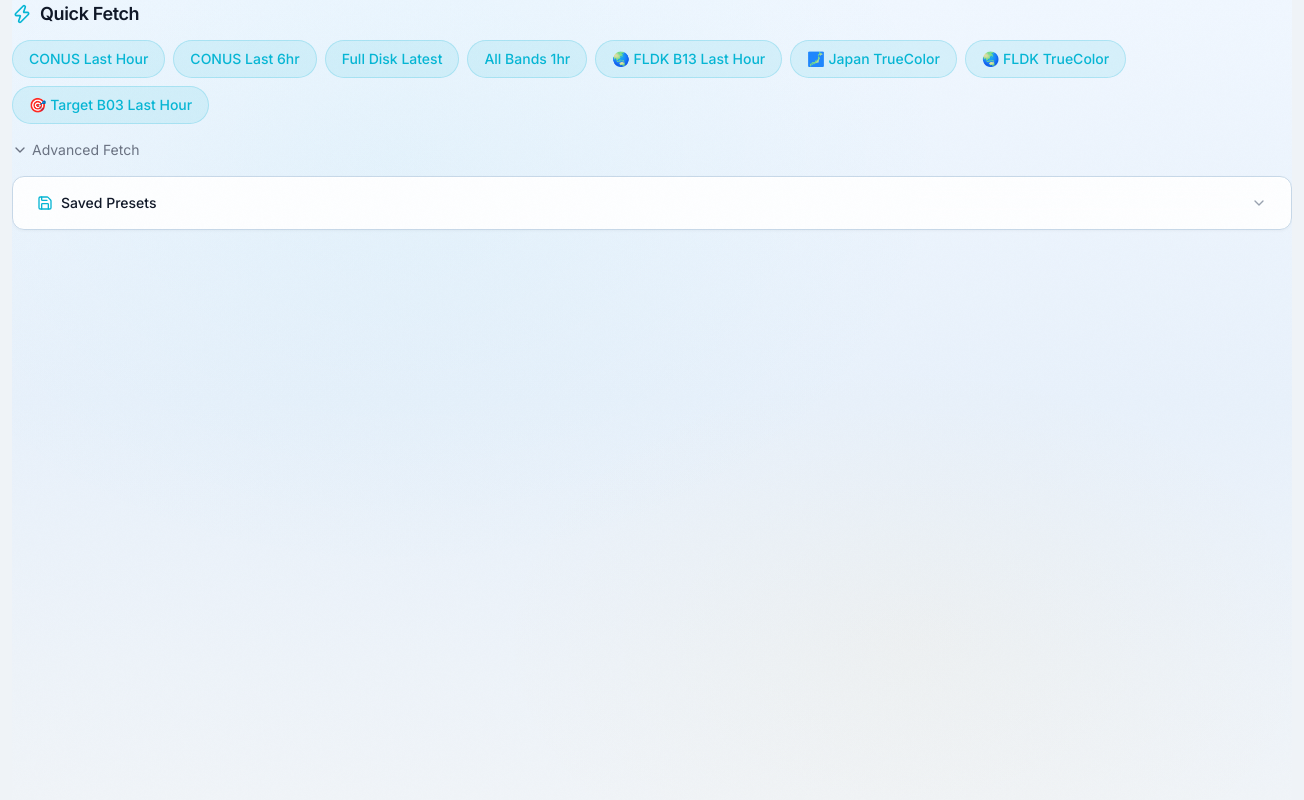
Test case: FetchFlowComplete › step 2: time range selection renders inputs
The width and height of the screenshot is (1304, 800).
What coordinates should you click on to do the following:
click the button with test id "advanced-fetch-toggle"
I would click on:
 (76, 150)
Its box is [12,140,140,160].
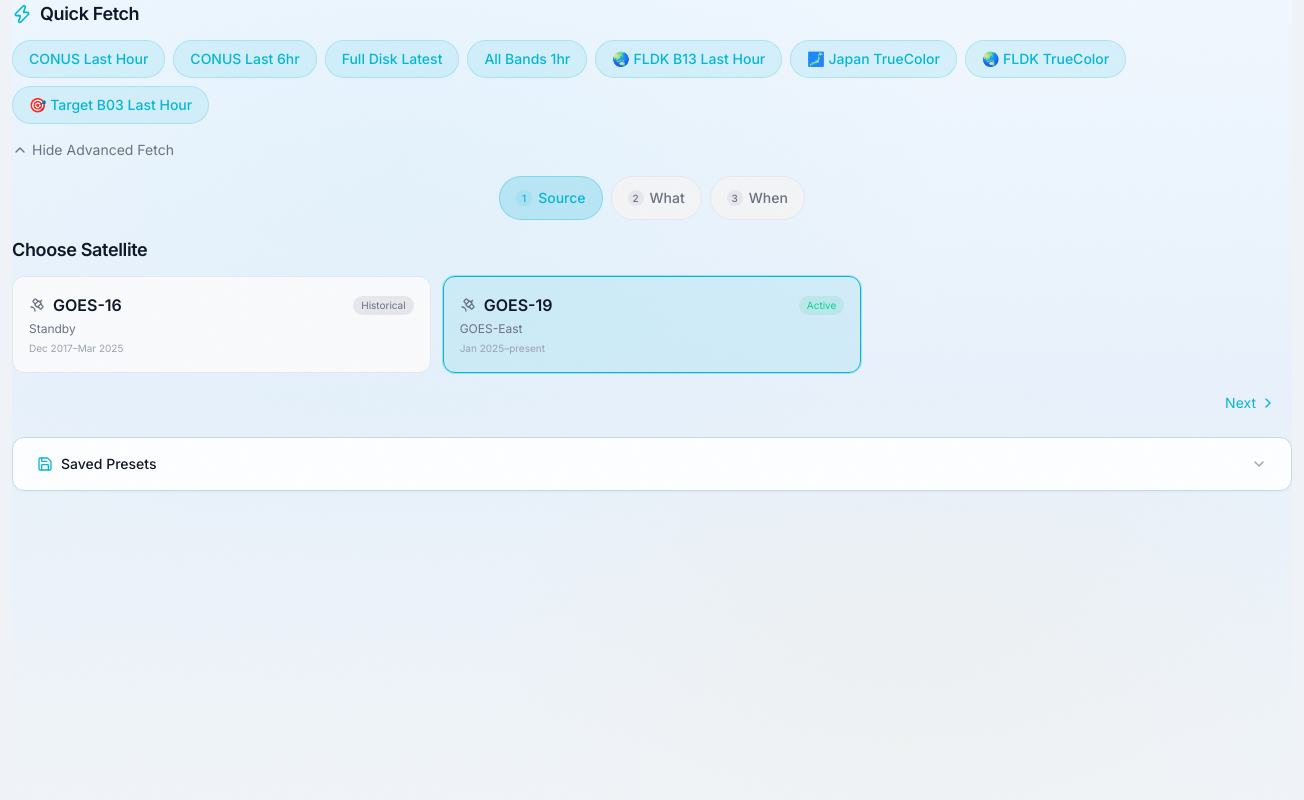
Result: the heading "Choose Satellite" is shown at [12,239,147,260]
What coordinates should you click on to do the following:
click the button "Next"
I would click on:
 (1251, 403)
Its box is [1209,385,1292,421].
(page scrolled)
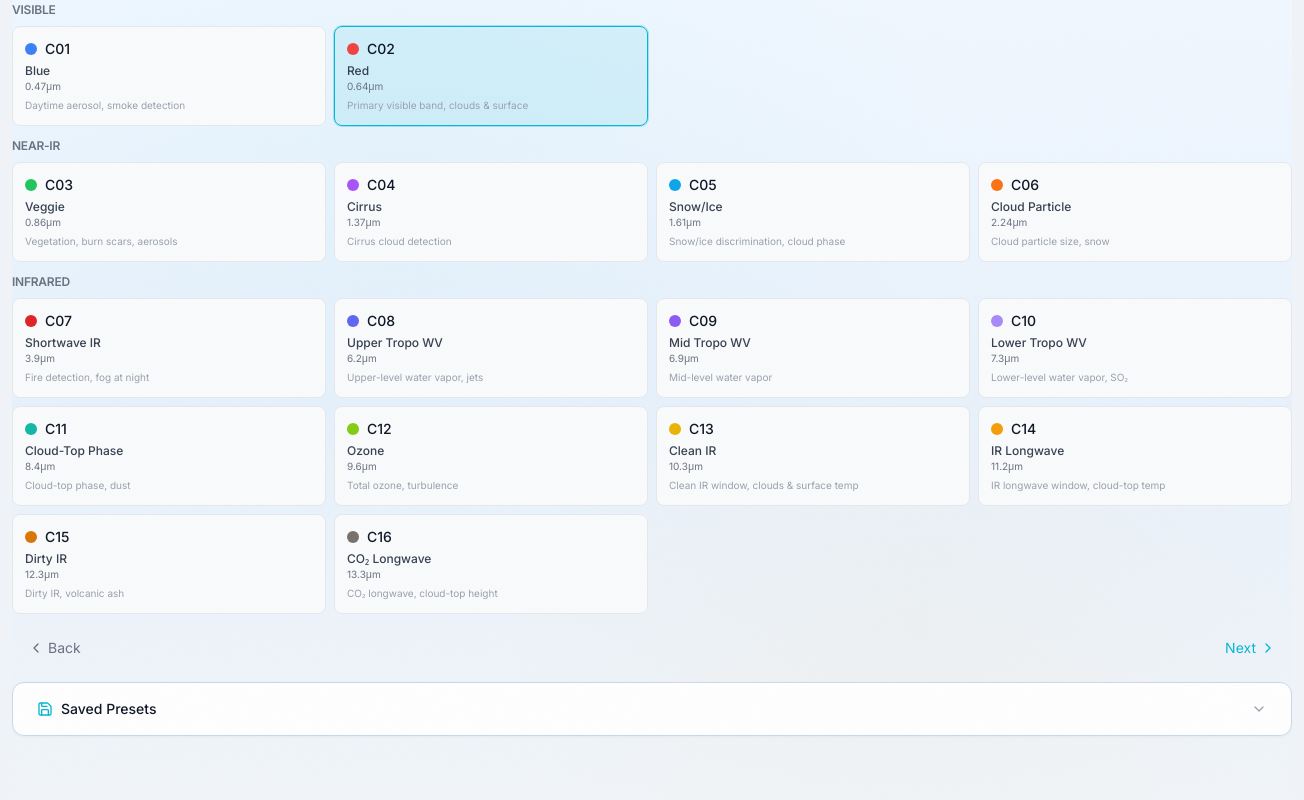
What coordinates should you click on to do the following:
click the button "Next"
I would click on:
 (1251, 648)
Its box is [1209,630,1292,666].
(page scrolled)
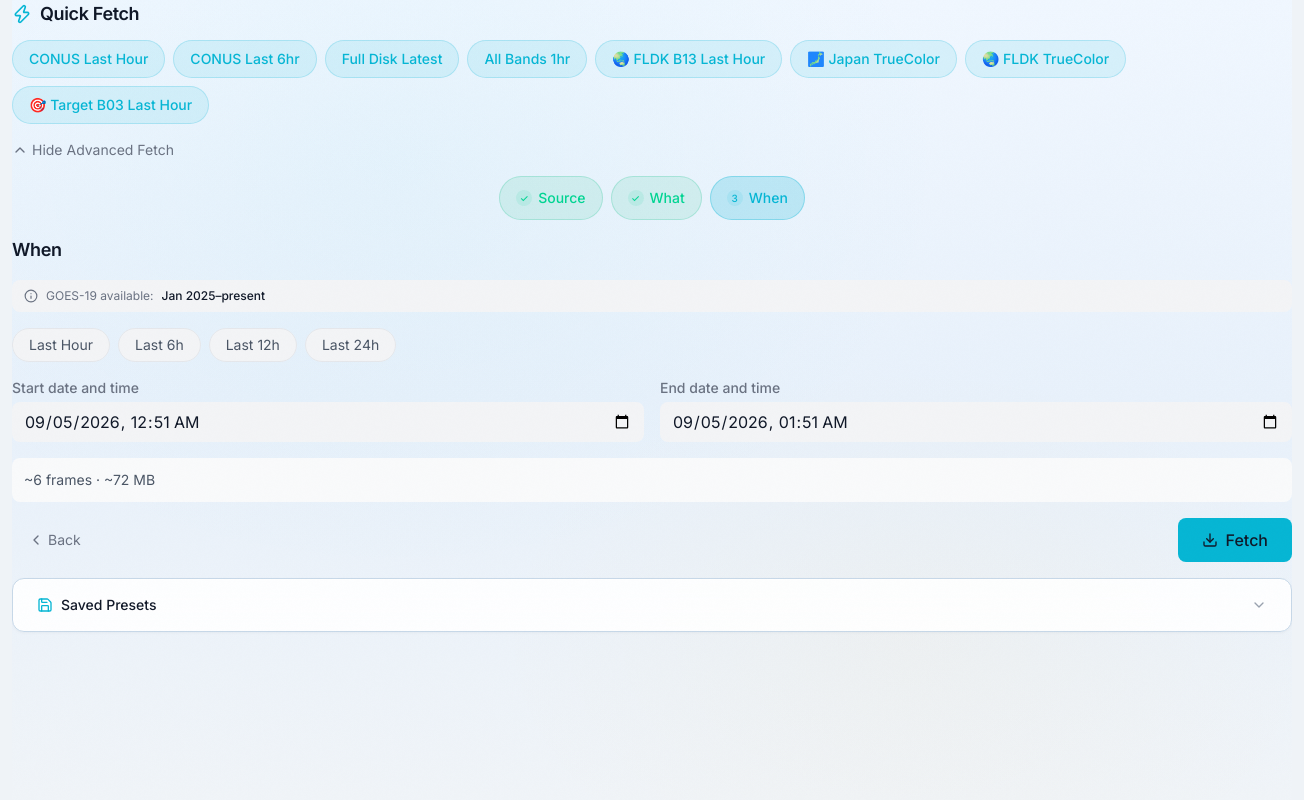
Result: the field labelled "Start date and time" is shown at [12,402,644,442]
Result: the field labelled "End date and time" is shown at [660,402,1292,442]
